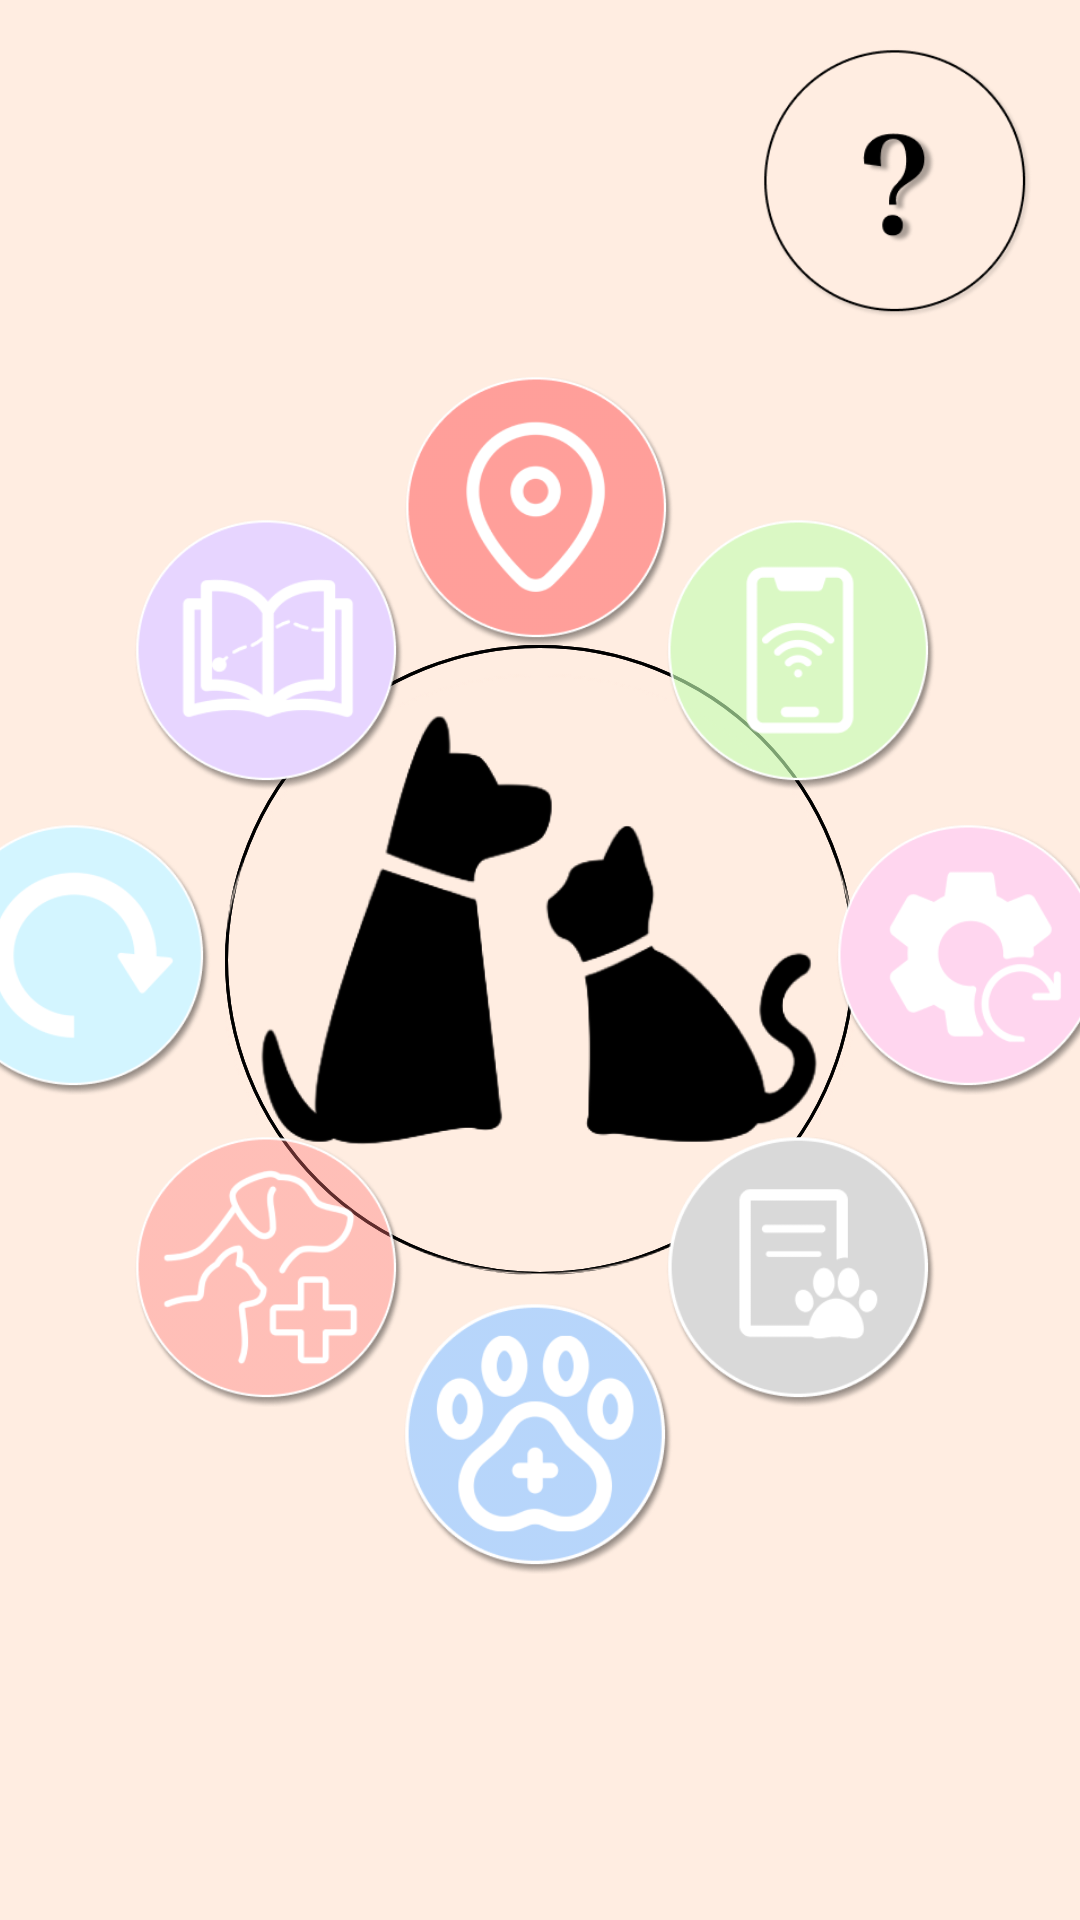

Icons on this 1080 × 1920 Android screen, each with its box as (x1, y1, x2, y2):
binding: (666, 520, 933, 790)
geodata: (407, 378, 672, 644)
informationpat: (666, 1137, 933, 1404)
mapstory: (137, 521, 404, 790)
questions: (764, 50, 1027, 313)
settingsreset: (836, 825, 1080, 1094)
vet: (137, 1137, 404, 1404)
